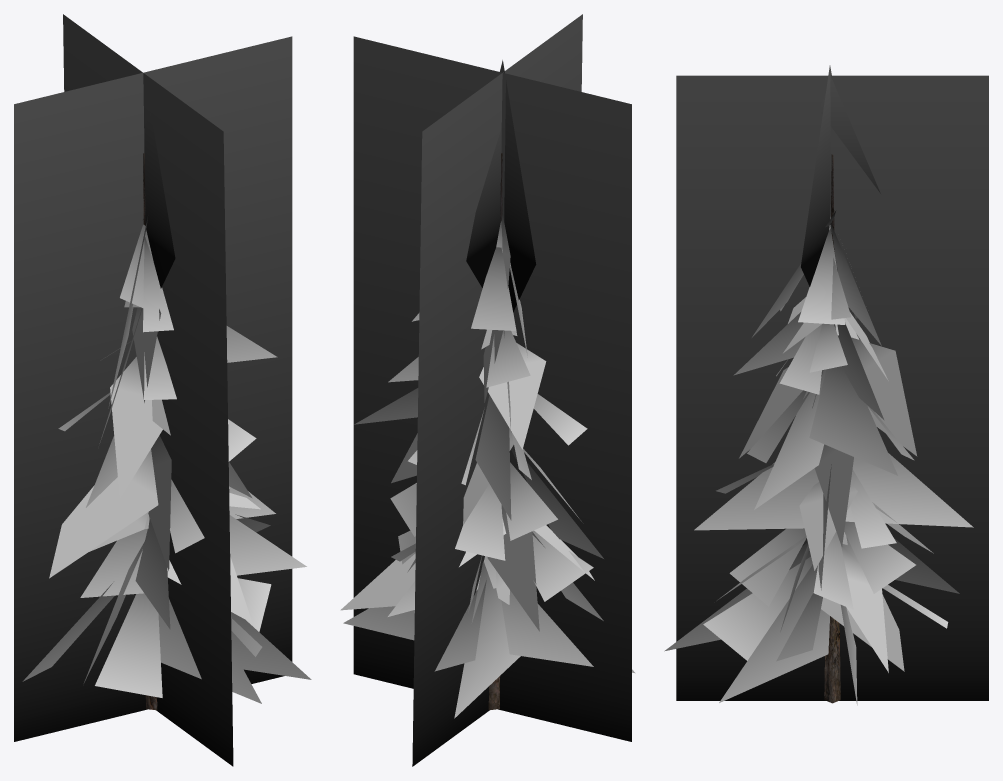
File: Pine_A.fbx
3 views of the same model, side by side, from view 1: azimuth 30°, elevation 25°; view 2: azimuth 150°, elevation 25°; view 3: azimuth 270°, elevation 25° (orthographic). The views are drawn at different scales.
Visible parts, largest first — view 1: Billboard, Pine_A; view 2: Billboard, Pine_A; view 3: Billboard, Pine_A.
Part boxes in pixels (x1=…): Billboard: x1=14, y1=14, x2=292, y2=766; Pine_A: x1=22, y1=113, x2=311, y2=710; Billboard: x1=353, y1=14, x2=631, y2=766; Pine_A: x1=340, y1=60, x2=635, y2=718; Billboard: x1=676, y1=75, x2=988, y2=700; Pine_A: x1=664, y1=65, x2=973, y2=705.
Size of the model in its own units: 371 by 827 by 385.
